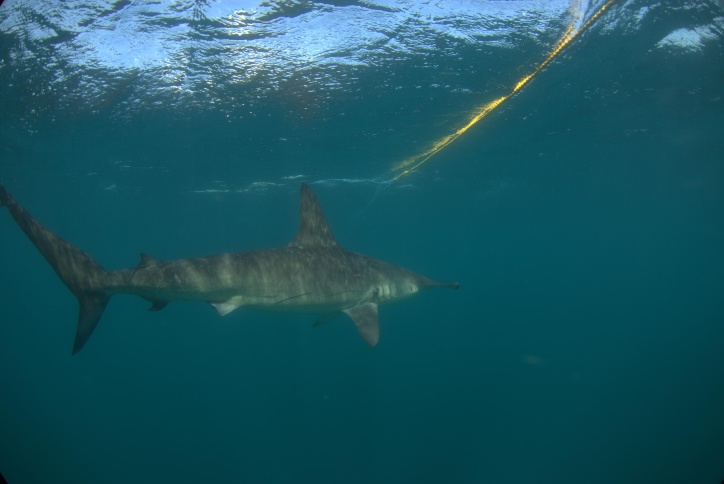Hammer: (1, 157, 468, 373)
